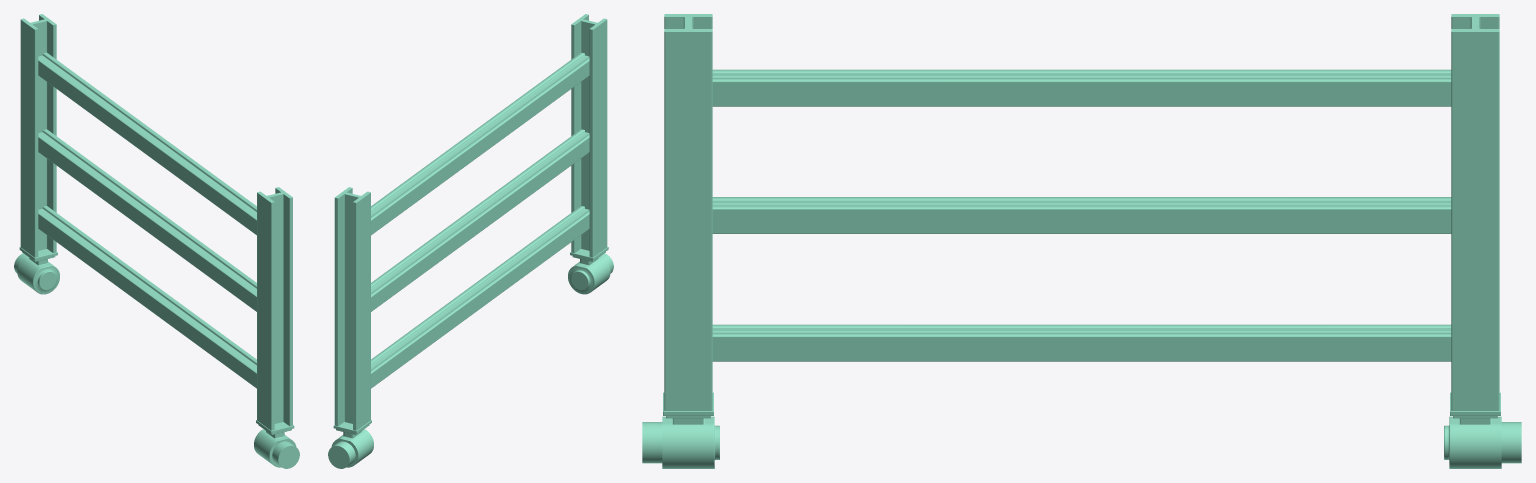
File: Solar_Battery_Holder02_02.fbx
The picture shows the model from 3 angles, left to right: view 1: azimuth 30°, elevation 25°; view 2: azimuth 150°, elevation 25°; view 3: azimuth 270°, elevation 25°; orthographic projection. The views are drawn at different scales.
Parts seen in each view (by area): view 1: SM_Solar_Battery_Holder02_02; view 2: SM_Solar_Battery_Holder02_02; view 3: SM_Solar_Battery_Holder02_02.
Boxes of the visible parts, x1,y1,x2,y2 form: SM_Solar_Battery_Holder02_02: (14, 14, 299, 468); SM_Solar_Battery_Holder02_02: (328, 14, 613, 468); SM_Solar_Battery_Holder02_02: (642, 14, 1521, 468).
Bounding box in the file's own units: 0.2031 × 1.9 × 3.42.
